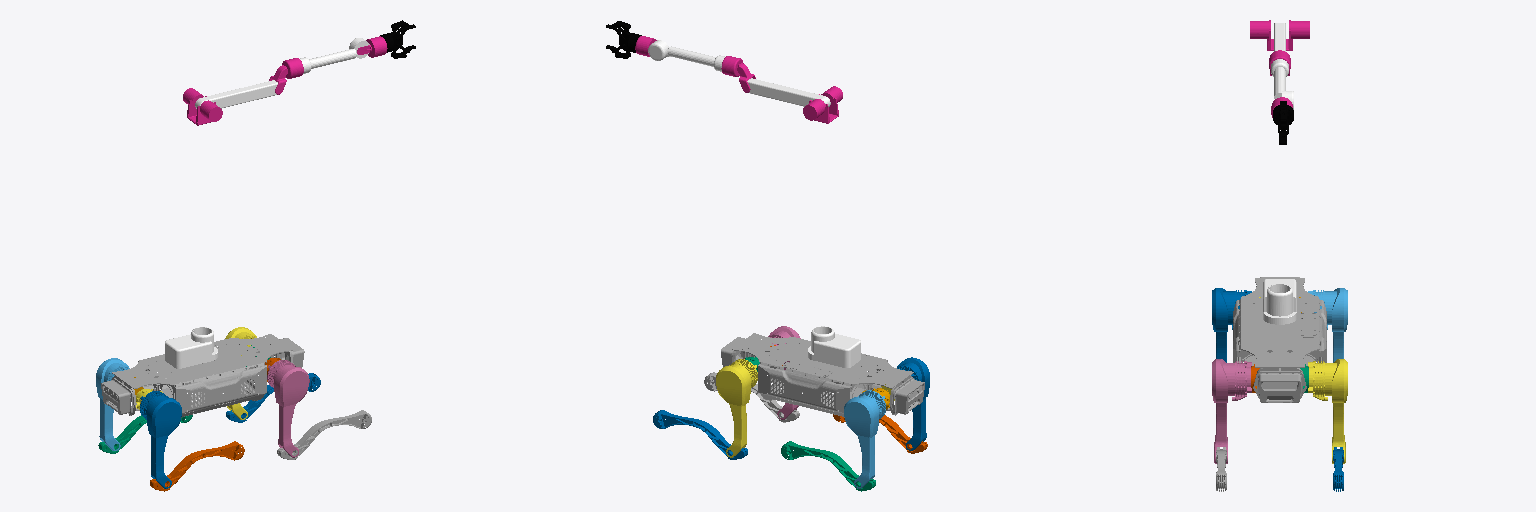
robot.urdf — X20_ARM:
<?xml version="1.0" encoding="utf-8"?>
<robot name="X20_ARM">

  <link
    name="base">
    <inertial>
      <origin
        xyz="0.005 0.000413 0.004"
        rpy="0 0 0" />
      <mass
        value="26.398" />
      <inertia ixx="0.1632" ixy="-5.2136E-05" ixz="-0.00019406" iyy="0.40648" iyz="8.2679E-05" izz="0.52596" />
    </inertial>
    <visual>
      <geometry>
        <mesh
          filename="package://X20_ARM/meshes/x20_torso.stl" />
      </geometry>
      <material
        name="">
        <color
          rgba="0.69804 0.69804 0.69804 1" />
      </material>
    </visual>
    <collision>
      <geometry>
        <mesh
          filename="package://X20_ARM/meshes/x20_torso.stl" />
      </geometry>
    </collision>
  </link>

  <link name="imu_link">
    <inertial>
      <mass value="0.0000001"/>
      <origin rpy="0 0 0" xyz="0 0 0"/>
      <inertia ixx="0.0000000001" ixy="0" ixz="0" iyy="0.00000000001" iyz="0" izz="0.000000001"/>
    </inertial>
  <visual>
    <origin rpy="0 0 0" xyz="0 0 0"/>
    <geometry>
      <box size="0.001 0.001 0.001"/>
    </geometry>
  </visual>
  <collision>
    <origin rpy="0 0 0" xyz="0 0 0"/>
    <geometry>
      <box size=".001 .001 .001"/>
    </geometry>
  </collision>
 </link>
 <joint name="imu_joint" type="fixed">
    <axis xyz="0 0 0"/> 
    <origin xyz="0 0 0"/>
    <parent link="base"/>
    <child link="imu_link"/>
  </joint>

  <link name="LF_HIP">
    <inertial>
      <origin xyz="-0.00075689 -0.0089129 -5.0528E-05" />
      <mass value="1.5767" />
      <inertia ixx="0.0012141" ixy="6.1989E-06" ixz="2.8652E-06" iyy="0.0016912" iyz="3.7E-06" izz="0.0013431" />
    </inertial>
    <visual>
      <geometry>
        <mesh filename="package://X20_ARM/meshes/x20_fl_hip.stl" />
      </geometry>
    </visual>
    <collision>
      <geometry>
        <mesh filename="package://X20_ARM/meshes/x20_fl_hip.stl" />
      </geometry>
    </collision>
  </link>

  <joint name="LF_HAA" type="revolute">
    <origin xyz="0.292 0.08 0" />
    <parent link="base" />
    <child link="LF_HIP" />
    <axis xyz="1 0 0" />
    <limit
      lower="-0.38397"
      upper="0.38397"
      effort="126.1"
      velocity="12"  />
  </joint>

  <link name="LF_THIGH">
    <inertial>
      <origin xyz="-0.0025264 -0.022118 -0.0292" />
      <mass value="3.0063" />
      <inertia ixx="0.0058102" ixy="4.2848E-05" ixz="-3.0437E-06" iyy="0.0080686" iyz="-6.889E-05" izz="0.003874" />
    </inertial>
    <visual>
      <geometry>
        <mesh filename="package://X20_ARM/meshes/x20_l_thigh.stl" />
      </geometry>
    </visual>
    <collision>
      <geometry>
        <mesh filename="package://X20_ARM/meshes/x20_l_thigh.stl" />
      </geometry>
    </collision>
  </link>

  <joint name="LF_HFE" type="revolute">
    <origin xyz="0 0.12325 0" />
    <parent link="LF_HIP" />
    <child link="LF_THIGH" />
    <axis xyz="0 -1 0" />
    <limit
      lower="-2.75762"
      upper="0.48869"
      effort="111.4"
      velocity="19"/>
  </joint>

  <link name="LF_SHANK">
    <inertial>
      <origin xyz="0.0075224 2.5888E-05 -0.17586" />
      <mass value="0.54849" />
      <inertia ixx="0.0057" ixy="1.16E-07" ixz="0.000153" iyy="0.006" iyz="-1.12E-06" izz="0.00029" />
    </inertial>
    <visual>
      <geometry>
        <mesh filename="package://X20_ARM/meshes/x20_shank.stl" />
      </geometry>
    </visual>
    <collision>
      <geometry>
        <mesh filename="package://X20_ARM/meshes/x20_shank.stl" />
      </geometry>
    </collision>
  </link>

  <joint name="LF_KFE" type="revolute">
    <origin xyz="0 0 -0.3" />
    <parent link="LF_THIGH" />
    <child link="LF_SHANK" />
    <axis xyz="0 -1 0" />
    <limit
      lower="0.66322"
      upper="2.84488"
      effort="195.8"
      velocity="19"  />
  </joint>

  <link name="RF_HIP">
    <inertial>
      <origin xyz="-0.000757 0.009 5.0528E-05" />
      <mass value="1.5767" />
      <inertia ixx="0.0012141" ixy="-6.1989E-06" ixz="-2.8652E-06" iyy="0.0016912" iyz="3.7E-06" izz="0.0013431" />
    </inertial>
    <visual>
      <geometry>
        <mesh filename="package://X20_ARM/meshes/x20_fr_hip.stl" />
      </geometry>
    </visual>
    <collision>
      <geometry>
        <mesh filename="package://X20_ARM/meshes/x20_fr_hip.stl" />
      </geometry>
    </collision>
  </link>

  <joint name="RF_HAA" type="revolute">
    <origin xyz="0.292 -0.08 0" />
    <parent link="base" />
    <child link="RF_HIP" />
    <axis xyz="-1 0 0" />
    <limit
      lower="-0.38397"
      upper="0.38397"
      effort="126.1"
      velocity="12"  />
  </joint>

  <link name="RF_THIGH">
    <inertial>
      <origin xyz="-0.0025266 0.022119 -0.029194" />
      <mass value="3.0062" />
      <inertia ixx="0.00581" ixy="-4.2781E-05" ixz="-3.0682E-06" iyy="0.0080684" iyz="6.8812E-05" izz="0.0038739" />
    </inertial>
    <visual>
      <geometry>
        <mesh filename="package://X20_ARM/meshes/x20_r_thigh.stl" />
      </geometry>
    </visual>
    <collision>
      <geometry>
        <mesh filename="package://X20_ARM/meshes/x20_r_thigh.stl" />
      </geometry>
    </collision>
  </link>

  <joint name="RF_HFE" type="revolute">
    <origin xyz="0 -0.12325 0" />
    <parent link="RF_HIP" />
    <child link="RF_THIGH" />
    <axis xyz="0 -1 0" />
    <limit
      lower="-2.75762"
      upper="0.48869"
      effort="111.4"
      velocity="19"/>
  </joint>

  <link name="RF_SHANK">
    <inertial>
      <origin xyz="0.0075224 2.5888E-05 -0.17586" />
      <mass value="0.54849" />
      <inertia ixx="0.0057" ixy="1.16E-07" ixz="0.000153" iyy="0.006" iyz="-1.12E-06" izz="0.00029" />
    </inertial>
    <visual>
      <geometry>
        <mesh filename="package://X20_ARM/meshes/x20_shank.stl" />
      </geometry>
    </visual>
    <collision>
      <geometry>
        <mesh filename="package://X20_ARM/meshes/x20_shank.stl" />
      </geometry>
    </collision>
  </link>

  <joint name="RF_KFE" type="revolute">
    <origin xyz="0 0 -0.3" />
    <parent link="RF_THIGH" />
    <child link="RF_SHANK" />
    <axis xyz="0 -1 0" />
    <limit
      lower="0.66322"
      upper="2.84488"
      effort="195.8"
      velocity="19"  />
  </joint>

  <link name="LH_HIP">
    <inertial>
      <origin xyz="0.000757 -0.009 5.053E-05" />
      <mass value="1.5767" />
      <inertia ixx="0.00121" ixy="-6.2E-06" ixz="2.9E-06" iyy="0.0017" iyz="-3.7E-06" izz="0.00134" />
    </inertial>
    <visual>
      <geometry>
        <mesh filename="package://X20_ARM/meshes/x20_hl_hip.stl" />
      </geometry>
    </visual>
    <collision>
      <geometry>
        <mesh filename="package://X20_ARM/meshes/x20_hl_hip.stl" />
      </geometry>
    </collision>
  </link>

  <joint name="LH_HAA" type="revolute">
    <origin xyz="-0.292 0.08 0" />
    <parent link="base" />
    <child link="LH_HIP" />
    <axis xyz="1 0 0" />
    <limit
      lower="-0.38397"
      upper="0.38397"
      effort="126.1"
      velocity="12"  />
  </joint>

  <link name="LH_THIGH">
    <inertial>
      <origin xyz="-0.0025264 -0.022118 -0.0292" />
      <mass value="3.0063" />
      <inertia ixx="0.0058102" ixy="4.2848E-05" ixz="-3.0433E-06" iyy="0.008" iyz="-6.8889E-05" izz="0.003874" />
    </inertial>
    <visual>
      <geometry>
        <mesh filename="package://X20_ARM/meshes/x20_l_thigh.stl" />
      </geometry>
    </visual>
    <collision>
      <geometry>
        <mesh filename="package://X20_ARM/meshes/x20_l_thigh.stl" />
      </geometry>
    </collision>
  </link>

  <joint name="LH_HFE" type="revolute">
    <origin xyz="0 0.12325 0" />
    <parent link="LH_HIP" />
    <child link="LH_THIGH" />
    <axis xyz="0 -1 0" />
    <limit
      lower="-2.75762"
      upper="0.48869"
      effort="111.4"
      velocity="19"/>
  </joint>

  <link name="LH_SHANK">
    <inertial>
      <origin xyz="0.0075224 2.5888E-05 -0.17586" />
      <mass value="0.54849" />
      <inertia ixx="0.0057" ixy="1.16E-07" ixz="0.000153" iyy="0.006" iyz="-1.12E-06" izz="0.00029" />
    </inertial>
    <visual>
      <geometry>
        <mesh filename="package://X20_ARM/meshes/x20_shank.stl" />
      </geometry>
    </visual>
    <collision>
      <geometry>
        <mesh filename="package://X20_ARM/meshes/x20_shank.stl" />
      </geometry>
    </collision>
  </link>

  <joint name="LH_KFE" type="revolute">
    <origin xyz="0 0 -0.3" />
    <parent link="LH_THIGH" />
    <child link="LH_SHANK" />
    <axis xyz="0 -1 0" />
    <limit
      lower="0.66322"
      upper="2.84488"
      effort="195.8"
      velocity="19"  />
  </joint>

  <link name="RH_HIP">
    <inertial>
      <origin xyz="0.00075689 0.0089129 -5.0528E-05" />
      <mass value="1.5767" />
      <inertia ixx="0.0012141" ixy="6.1989E-06" ixz="-2.8652E-06" iyy="0.0016912" iyz="-3.7E-06" izz="0.0013431" />
    </inertial>
    <visual>
      <geometry>
        <mesh filename="package://X20_ARM/meshes/x20_hr_hip.stl" />
      </geometry>
    </visual>
    <collision>
      <geometry>
        <mesh filename="package://X20_ARM/meshes/x20_hr_hip.stl" />
      </geometry>
    </collision>
  </link>

  <joint name="RH_HAA" type="revolute">
    <origin xyz="-0.292 -0.08 0" />
    <parent link="base" />
    <child link="RH_HIP" />
    <axis xyz="-1 0 0" />
    <limit
      lower="-0.38397"
      upper="0.38397"
      effort="126.1"
      velocity="12"  />
  </joint>

  <link name="RH_THIGH">
    <inertial>
      <origin xyz="-0.0025266 0.022119 -0.029194" />
      <mass value="3.0062" />
      <inertia ixx="0.00581" ixy="-4.2781E-05" ixz="-3.0681E-06" iyy="0.0080684" iyz="6.8812E-05" izz="0.0038739" />
    </inertial>
    <visual>
      <geometry>
        <mesh filename="package://X20_ARM/meshes/x20_r_thigh.stl" />
      </geometry>
    </visual>
    <collision>
      <geometry>
        <mesh filename="package://X20_ARM/meshes/x20_r_thigh.stl" />
      </geometry>
    </collision>
  </link>

  <joint name="RH_HFE" type="revolute">
    <origin xyz="0 -0.12325 0" />
    <parent link="RH_HIP" />
    <child link="RH_THIGH" />
    <axis xyz="0 -1 0" />
    <limit
      lower="-2.75762"
      upper="0.48869"
      effort="111.4"
      velocity="19"/>
  </joint>

  <link name="RH_SHANK">
    <inertial>
      <origin xyz="0.0075224 2.589E-05 -0.17586" />
      <mass value="0.54849" />
      <inertia ixx="0.0056981" ixy="1.1608E-07" ixz="0.00015292" iyy="0.0059026" iyz="-1.1243E-06" izz="0.00028822" />
    </inertial>
    <visual>
      <geometry>
        <mesh filename="package://X20_ARM/meshes/x20_shank.stl" />
      </geometry>
    </visual>
    <collision>
      <geometry>
        <mesh filename="package://X20_ARM/meshes/x20_shank.stl" />
      </geometry>
    </collision>
  </link>

  <joint name="RH_KFE" type="revolute">
    <origin xyz="0 0 -0.3" />
    <parent link="RH_THIGH" />
    <child link="RH_SHANK" />
    <axis xyz="0 -1 0" />
    <limit
      lower="0.66322"
      upper="2.84488"
      effort="195.8"
      velocity="19"  />
  </joint>

  <link name="LF_FOOT">
  </link>
  <joint name = "LF_FOOT_joint" type = "fixed">
    <origin xyz="0 0 -0.33" rpy = "0 0 0"/>
    <parent link="LF_SHANK"/>
    <child link = "LF_FOOT"/>
  </joint>

  <link name="LH_FOOT">
  </link>
  <joint name = "LH_FOOT_joint" type = "fixed">
    <origin xyz="0 0 -0.33" rpy = "0 0 0"/>
    <parent link="LH_SHANK"/>
    <child link = "LH_FOOT"/>
  </joint>

  <link name="RF_FOOT">
  </link>
  <joint name = "RF_FOOT_joint" type = "fixed">
    <origin xyz="0 0 -0.33" rpy = "0 0 0"/>
    <parent link="RF_SHANK"/>
    <child link = "RF_FOOT"/>
  </joint>

  <link name="RH_FOOT">
  </link>
  <joint name = "RH_FOOT_joint" type = "fixed">
    <origin xyz="0 0 -0.33" rpy = "0 0 0"/>
    <parent link="RH_SHANK"/>
    <child link = "RH_FOOT"/>
  </joint>

  <!-- arm -->
  <joint name = "fix_arm_joint" type = "fixed">
    <origin xyz="0 0.0 0.1" rpy = "0 0 0"/>
    <parent link="base"/>
    <child link = "arm_link_0"/>
  </joint>

  <link name = "arm_link_0">
      <inertial>
          <mass value="1.546877"/>
          <origin xyz="-0.030474 0.000329 0.051723"/>
          <inertia ixx="0.002534" ixy="-0.00011" ixz="0.000201" iyy="0.005867" iyz="-0.000030" izz="0.006539"/>
      </inertial>
      <visual>
          <geometry>
              <mesh filename="package://X20_ARM/meshes/mesh_arm/base.STL" />
          </geometry>
          <material name="white">
              <color rgba="1 1 1 1"/>
          </material>
      </visual>
      <collision>
          <origin xyz="-0.045 0 0" rpy="0 0 0"/>
          <geometry>
              <box size="0.206 0.115 0.082"/>
          </geometry>
      </collision>
  </link>

  <link name = "arm_link_1">
      <inertial>
          <mass value="1.770103"/>
          <origin xyz="-0.000082 0.000337 0.087753"/>
          <inertia ixx="0.007275" ixy="0.000010" ixz="0.000003" iyy="0.002284" iyz="0.000042" izz="0.006462"/>
      </inertial>
      <visual>
          <geometry>
              <mesh filename="package://X20_ARM/meshes/mesh_arm/link1.STL" />
          </geometry>
          <origin xyz="0 0 0.0345"/>
          <material name="pink">
              <color rgba="0.9 0.2 0.6 1"/>
          </material>
      </visual>
      <collision>
          <geometry>
              <mesh filename="package://X20_ARM/meshes/mesh_arm/link1.STL" />
              <origin xyz="0 0 0.0345"/>
          </geometry>
      </collision>
  </link>

  <joint name="ARM_J1" type="revolute">
      <origin xyz="0 0 0.0813"/>
      <origin xyz="0 0 1"/>
      <parent link="arm_link_0"/>
      <child link="arm_link_1"/>
      <axis xyz="0.0 0.0 1.0"/>
      <limit lower="-2.70526" upper="2.70526" effort="24" velocity="22" />
  </joint>

  <link name="arm_link_2">
      <inertial>
          <mass value="0.923887"/>
          <origin xyz="0.180777 0.001473 -0.000488"/>
          <inertia ixx="0.000498" iyy="0.013862" izz="0.013889" ixy="0.000099" ixz="0.000033" iyz="0.0"/>
      </inertial>
      <visual>
          <geometry>
              <mesh filename="package://X20_ARM/meshes/mesh_arm/link2.STL" />
          </geometry>
          <material name="white">
              <color rgba="1 1 1 1"/>
          </material>
      </visual>
          
      <collision>
          <origin xyz="165.75 0 0" rpy="0 0 0"/>
          <geometry>
              <box size="0.38375 0.049 0.052"/>
          </geometry>
      </collision>
  </link>

  <joint name="ARM_J2" type="revolute">
      <parent link="arm_link_1"/>
      <child link="arm_link_2"/>
      <origin xyz="0 0 0.0995"/>
      <axis xyz="0.0 1.0 0.0"/>
      <limit lower="-3.1415926" upper="0.5236" effort="49.9" velocity="16.4" />
  </joint>

  <link name="arm_link_3">
      <inertial>
          <mass value="0.683763"/>
          <origin xyz="0.073116 0.000516 0.058417"/>
          <inertia ixx="0.000581" iyy="0.001184" izz="0.001065" ixy="0.000011" ixz="0.000281" iyz="0.000004"/>
      </inertial>
      <visual>
          <geometry>
              <mesh filename="package://X20_ARM/meshes/mesh_arm/link3.STL" />
          </geometry>
          <material name="pink">
              <color rgba="0.9 0.2 0.6 1"/>
          </material>
      </visual>
      <collision>
          <geometry>
              <mesh filename="package://X20_ARM/meshes/mesh_arm/link3.STL" />
          </geometry>
      </collision>
  </link>

  <joint name="ARM_J3" type="revolute">
      <parent link="arm_link_2"/>
      <child link="arm_link_3"/>
      <origin xyz="0.3315 0.0 0.0"/>
      <axis xyz="0.0 1.0 0.0"/>
      <limit lower="0" upper="3.1415926" effort="49.9" velocity="16.4" />
  </joint>

  <link name="arm_link_4">
      <inertial>
          <mass value="0.687665"/>
          <origin xyz="0.231585 0.019429 -0.000001"/>
          <inertia ixx="0.000403" iyy="0.005758" izz="0.005807" ixy="0.000609" ixz="-0.000001" iyz="-0.000001"/>
      </inertial>
      <visual>
          <geometry>
              <mesh filename="package://X20_ARM/meshes/mesh_arm/link4.STL" />
          </geometry>
          <material name="white">
              <color rgba="1 1 1 1"/>
          </material>
      </visual>
      <collision>
          <geometry>
              <cylinder radius="0.020" length="0.283"/>
              <origin xyz="0.1415 0 0" rpy="0 0 1.5707653"/>
          </geometry>
      </collision>
  </link>

  <joint name="ARM_J4" type="revolute">
      <parent link="arm_link_3"/>
      <child link="arm_link_4"/>
      <origin xyz="0.1121 0 0.065"/>
      <axis xyz="1.0 0.0 0.0"/>
      <limit lower="-2.6180" upper="2.6180" effort="8" velocity="66" />
  </joint>

  <link name="arm_link_5">
      <inertial>
          <mass value="0.520227"/>
          <origin xyz="0.076999 -0.004672 -0.002614"/>
          <inertia ixx="0.000292" iyy="0.000386" izz="0.000381" ixy="0.000002" ixz="-0.000004" iyz="0.000001"/>
      </inertial>
      <visual>
          <geometry>
              <mesh filename="package://X20_ARM/meshes/mesh_arm/link5.STL"/>
          </geometry>
          <material name="pink">
              <color rgba="0.9 0.2 0.6 1"/>
          </material>
      </visual>
      <collision>
          <geometry>
              <mesh filename="package://X20_ARM/meshes/mesh_arm/link5.STL"/>
          </geometry>
      </collision>
  </link>

  <joint name="ARM_J5" type="revolute">
      <parent link="arm_link_4"/>
      <child link="arm_link_5"/>
      <origin xyz="0.283 0.00805 0.0"/>
      <axis xyz="0.0 1.0 0.0"/>
      <limit lower="-1.7453" upper="1.7453" effort="8" velocity="66"/>
  </joint>

  <link
    name="Gripper_Point">
    <inertial>
      <origin
        xyz="0.047177 -4.2961E-05 8.9797E-06"
        rpy="0 0 0" />
      <mass
        value="0.31364" />
      <inertia
        ixx="0.00014721"
        ixy="-1.1279E-07"
        ixz="-7.5542E-09"
        iyy="0.00021926"
        iyz="-8.9864E-09"
        izz="0.0001951" />
    </inertial>
    <visual>
      <origin
        xyz="0 0 0"
        rpy="0 0 0" />
      <geometry>
        <mesh
          filename="package://X20_ARM/meshes/mesh_arm/gripper_point.STL" />
      </geometry>
      <material
        name="">
        <color
          rgba="0.039216 0.039216 0.039216 1" />
      </material>
    </visual>
    <collision>
      <origin
        xyz="0 0 0"
        rpy="0 0 0" />
      <geometry>
        <mesh
          filename="package://X20_ARM/meshes/mesh_arm/gripper_point.STL" />
      </geometry>
    </collision>
  </link>

  <joint name="ARM_J6" type="revolute">
      <parent link="arm_link_5"/>
      <child link="Gripper_Point"/>
      <origin xyz="0.10424 0.00406 0.00366"/>
      <axis xyz="1.0 0.0 0.0"/>
      <limit lower="-3.1415926" upper="3.1415926" effort="8" velocity="66" />
  </joint>
</robot>

--- What the picture shows (computed from the rendered views, not written in the file) ---
Views: 3 orthographic renders of the robot side by side, from view 1: azimuth 30°, elevation 25°; view 2: azimuth 150°, elevation 25°; view 3: azimuth 270°, elevation 25°.
Robot: X20_ARM — 25 links, 24 joints (18 revolute, 6 fixed); root link base; default pose: joints at zero except 4 at the middle of their limits (LF_KFE = 1.75, RF_KFE = 1.75, LH_KFE = 1.75, RH_KFE = 1.75).
Links seen in each view (by area): view 1: base, RH_THIGH, RF_THIGH, arm_link_0, LH_THIGH, RF_SHANK, RH_SHANK, arm_link_2, arm_link_1, arm_link_4, Gripper_Point, arm_link_3 (+2 smaller); view 2: base, LH_THIGH, LF_THIGH, arm_link_0, RH_THIGH, LF_SHANK, LH_SHANK, arm_link_2, arm_link_4, arm_link_1, Gripper_Point, arm_link_3 (+2 smaller); view 3: base, LF_THIGH, RF_THIGH, arm_link_0, LH_THIGH, RH_THIGH, arm_link_1, arm_link_4, Gripper_Point.
Link boxes in pixels (<box>): base: <box>101,334,304,417</box>; RH_THIGH: <box>140,391,181,488</box>; RF_THIGH: <box>267,360,309,457</box>; arm_link_0: <box>165,327,217,368</box>; LH_THIGH: <box>96,358,129,450</box>; RF_SHANK: <box>277,410,371,459</box>; RH_SHANK: <box>150,441,244,491</box>; arm_link_2: <box>195,80,277,108</box>; arm_link_1: <box>183,88,222,125</box>; arm_link_4: <box>300,38,369,73</box>; Gripper_Point: <box>380,20,415,58</box>; arm_link_3: <box>269,58,303,94</box>; base: <box>721,333,924,417</box>; LH_THIGH: <box>844,390,885,488</box>; LF_THIGH: <box>716,359,757,457</box>; arm_link_0: <box>808,326,860,367</box>; RH_THIGH: <box>897,357,929,450</box>; LF_SHANK: <box>653,410,747,459</box>; LH_SHANK: <box>781,441,875,491</box>; arm_link_2: <box>747,78,830,106</box>; arm_link_4: <box>648,40,724,71</box>; arm_link_1: <box>803,86,842,123</box>; Gripper_Point: <box>606,21,641,58</box>; arm_link_3: <box>721,56,755,92</box>; base: <box>1233,277,1326,402</box>; LF_THIGH: <box>1308,359,1347,463</box>; RF_THIGH: <box>1212,359,1251,463</box>; arm_link_0: <box>1263,279,1296,324</box>; LH_THIGH: <box>1308,288,1347,362</box>; RH_THIGH: <box>1212,288,1251,362</box>; arm_link_1: <box>1250,20,1309,50</box>; arm_link_4: <box>1271,59,1293,109</box>; Gripper_Point: <box>1273,101,1293,144</box>.
Size in the robot's own frame: 1.41 by 0.47 by 1.68 metres.
Meshes: 15 distinct files referenced, 20 mesh visuals loaded (15 binary STL).
